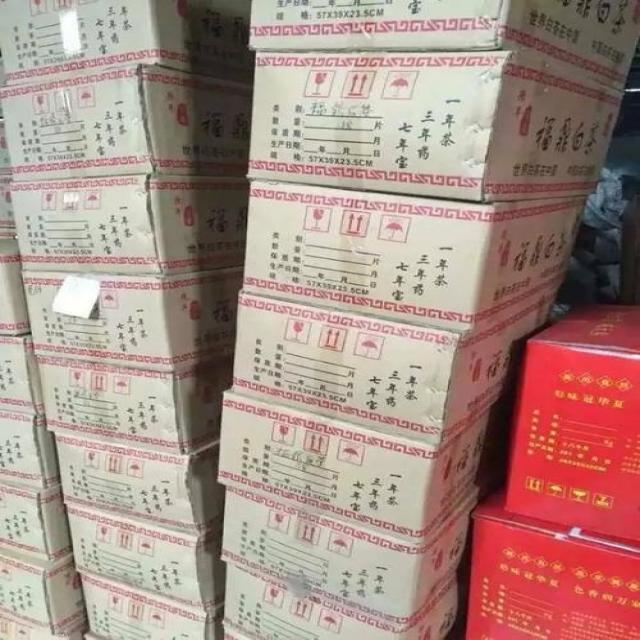box: (248, 53, 630, 200), (241, 178, 592, 335), (226, 284, 561, 441), (214, 390, 515, 539), (216, 472, 505, 625), (506, 301, 639, 545), (1, 63, 255, 181), (467, 474, 637, 637), (14, 171, 254, 273), (19, 266, 245, 373), (0, 1, 255, 83), (36, 355, 235, 452), (220, 562, 469, 639), (53, 434, 225, 535), (68, 506, 229, 611), (77, 568, 224, 636), (0, 547, 87, 632), (0, 481, 77, 564), (0, 411, 65, 490), (1, 327, 43, 413), (1, 254, 33, 336), (0, 618, 85, 638), (0, 181, 21, 256), (1, 81, 15, 183), (218, 627, 251, 639)
